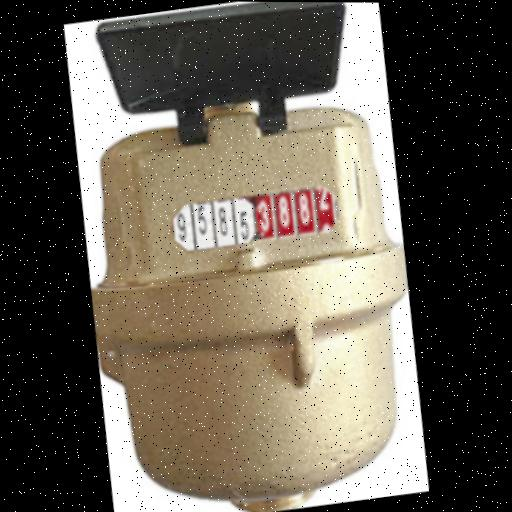2: (314, 186, 343, 232)
3: (253, 192, 278, 240)
5: (192, 201, 218, 249), (233, 196, 258, 244)
8: (211, 199, 237, 247), (293, 188, 318, 235), (274, 190, 297, 238)
9: (169, 204, 195, 253)
border_water_meter_number: (168, 182, 343, 255)
